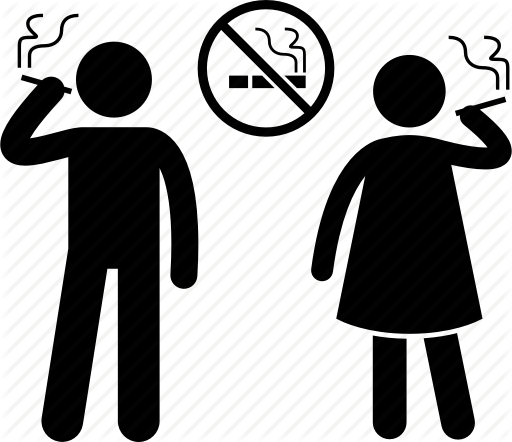cigar: (12, 68, 74, 98), (452, 94, 508, 120)
nosmoking: (191, 1, 346, 139)
